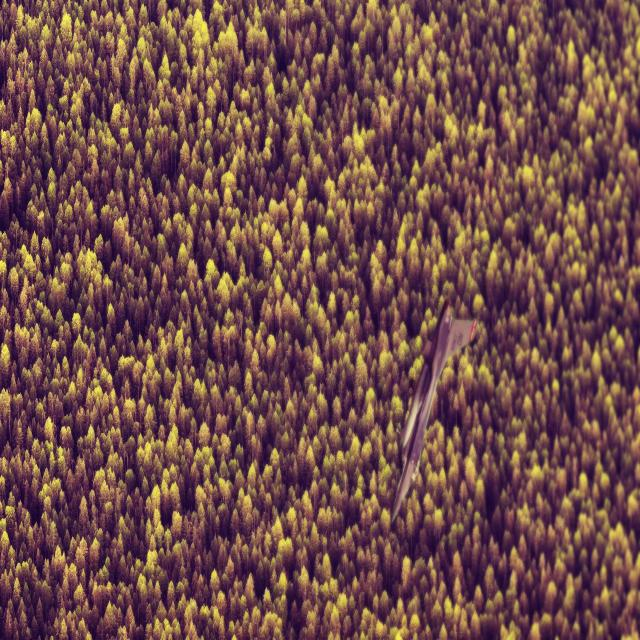airplane: (390, 296, 477, 523)
